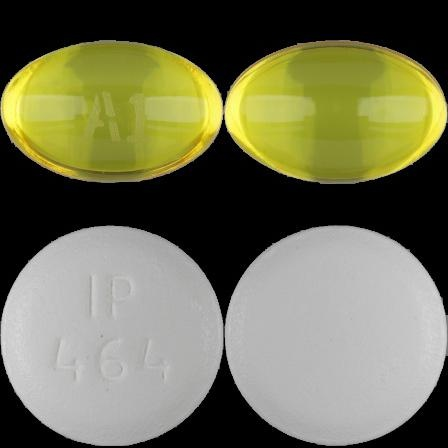42254-078: (0, 0, 224, 224)
